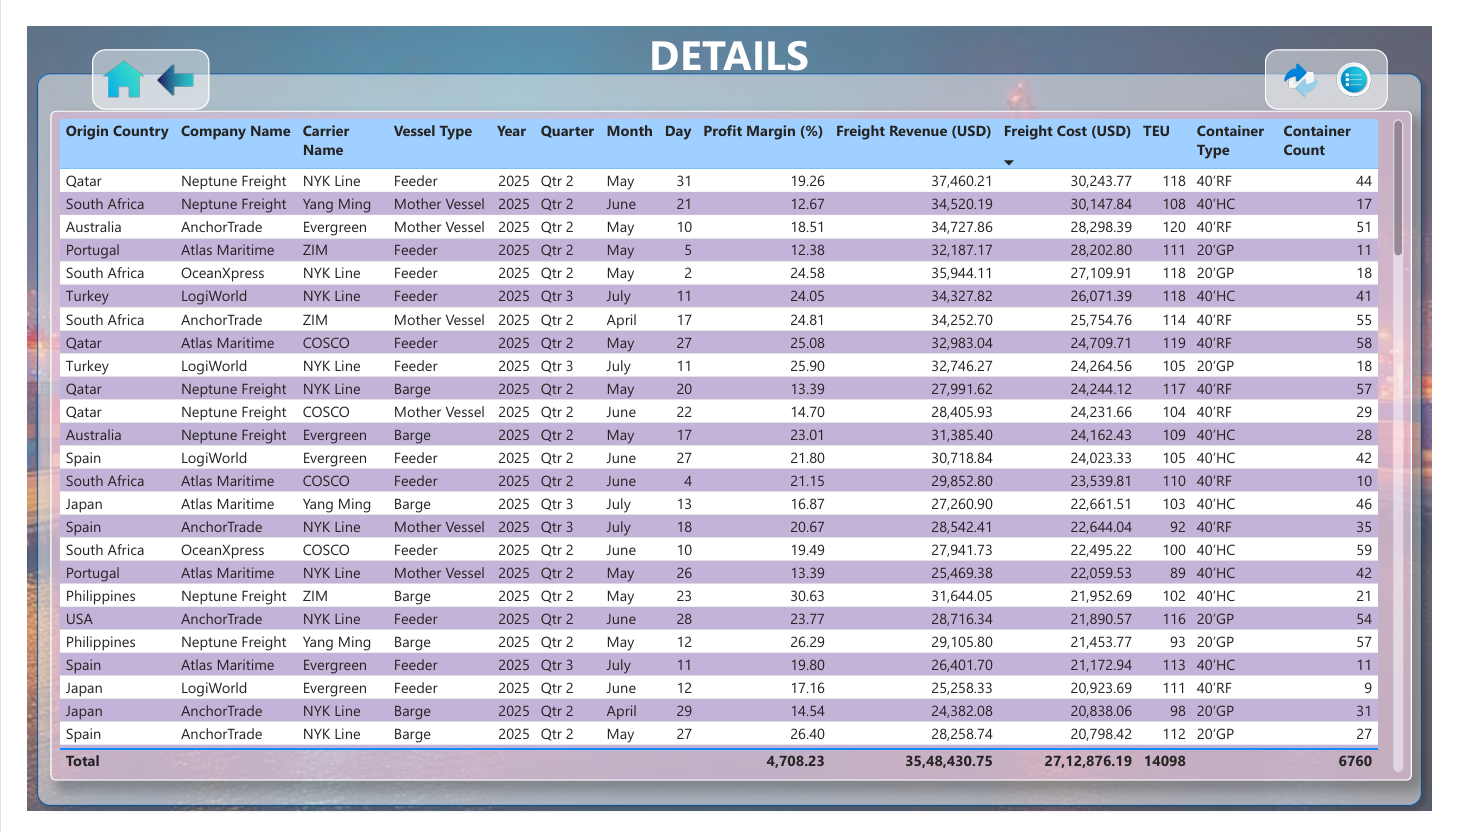

What the dashboard file says about the page in this screenshot:
{"tool":"powerbi","page":{"name":"Details","canvas":[1280,720],"ordinal":5},"visuals":[{"type":"shape","box":[0,34.2,1280.3,686],"z":0},{"type":"tableEx","fields":{"Values":["Shipping_Data.Origin Country","Shipping_Data.Company Name","Shipping_Data.Carrier Name","Shipping_Data.Vessel Type","Shipping_Data.Arrival Date.Variation.Date Hierarchy.Year","Shipping_Data.Arrival Date.Variation.Date Hierarchy.Quarter","Shipping_Data.Arrival Date.Variation.Date Hierarchy.Month","Shipping_Data.Arrival Date.Variation.Date Hierarchy.Day","Sum(Shipping_Data.Profit Margin (%))","Sum(Shipping_Data.Freight Revenue (USD))","Sum(Shipping_Data.Freight Cost (USD))","Sum(Shipping_Data.TEU)"]},"box":[20.8,77,1241.2,611.4],"z":1000},{"type":"shape","box":[1127.5,20.8,112.5,55],"z":2000},{"type":"image","box":[1127.5,22,67.3,53.8],"z":3000},{"type":"shape","box":[58.7,20.8,107.6,55],"z":4000},{"type":"image","box":[51.4,20.8,72.1,53.8],"z":5000},{"type":"image","box":[103.9,26.9,62.4,44],"z":6000},{"type":"image","box":[1184.2,26.7,48.3,49.2],"z":7000},{"type":"textbox","box":[407.2,0,464.7,74.6],"z":8000}]}

Visuals, with their boxes in screenshot pixels (x1, y1, x2, y2), scaled from the page's 1280x720 canvas onto the 1457x832 screenshot:
shape: [0,40,1456,831]
tableEx - Shipping_Data.Origin Country x Shipping_Data.Company Name: [24,89,1437,795]
shape: [1283,24,1411,88]
image: [1283,25,1360,88]
shape: [67,24,189,88]
image: [59,24,141,86]
image: [118,31,189,82]
image: [1348,31,1403,88]
textbox: [464,0,992,86]
